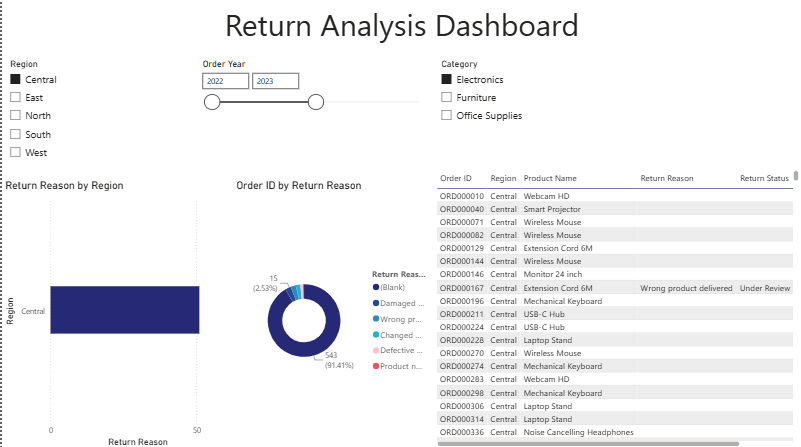

Layout of this report page (visuals, bound fields, positions):
{"tool":"powerbi","page":{"name":"Return_Analysis","canvas":[1280,720],"ordinal":2},"visuals":[{"type":"clusteredBarChart","fields":{"Y":["CountNonNull(Returns (3).Return Reason)"],"Category":["Orders (3).Region"]},"box":[0,285,370,435],"z":0},{"type":"donutChart","fields":{"Category":["Returns (3).Return Reason"],"Y":["CountNonNull(Orders (3).Order ID)"]},"box":[370,285,320,435],"z":1000},{"type":"tableEx","fields":{"Values":["Orders (3).Order ID","Orders (3).Region","Products (3).Product Name","Returns (3).Return Reason","Returns (3).Return Status","Orders (3).IsReturned"]},"box":[690,268.3,590,451.7],"z":2000},{"type":"slicer","fields":{"Values":["Orders (3).Region"]},"box":[0,88.3,308.3,180],"z":3000},{"type":"slicer","fields":{"Values":["Orders (3).Order Year"]},"box":[308.3,88.3,381.7,168.3],"z":4000},{"type":"slicer","fields":{"Values":["Products (3).Category"]},"box":[690,88.3,285,158.3],"z":5000},{"type":"textbox","box":[0,0,1280,87.7],"z":6000}]}

Visuals, with their boxes in screenshot pixels (x1, y1, x2, y2), scaled from the page's 1280x720 canvas onto the 801x447 screenshot:
clusteredBarChart - CountNonNull(Returns (3).Return Reason) x Orders (3).Region: l=0, t=177, r=232, b=446
donutChart - Returns (3).Return Reason x CountNonNull(Orders (3).Order ID): l=232, t=177, r=432, b=446
tableEx - Orders (3).Order ID x Orders (3).Region: l=432, t=167, r=800, b=446
slicer - Orders (3).Region: l=0, t=55, r=193, b=167
slicer - Orders (3).Order Year: l=193, t=55, r=432, b=159
slicer - Products (3).Category: l=432, t=55, r=610, b=153
textbox: l=0, t=0, r=800, b=54
